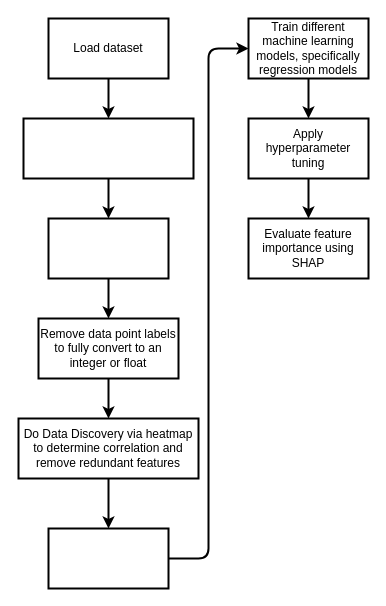
Some shapes in this 386 by 606 pixel diagram are drawn without their labels. Each missing label, with the centre of its shape:
"Check each feature if they have duplicates and missing values" goes at point (108, 148).
"Convert categorical features into numerical" goes at point (108, 248).
"Finalize X features to determine Y (Resource_Allocation)" goes at point (108, 558).
